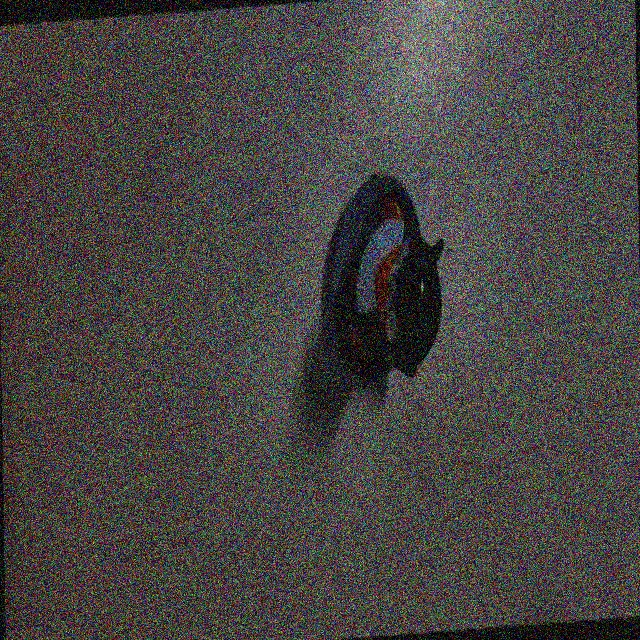Penguin: (315, 140, 453, 411)
